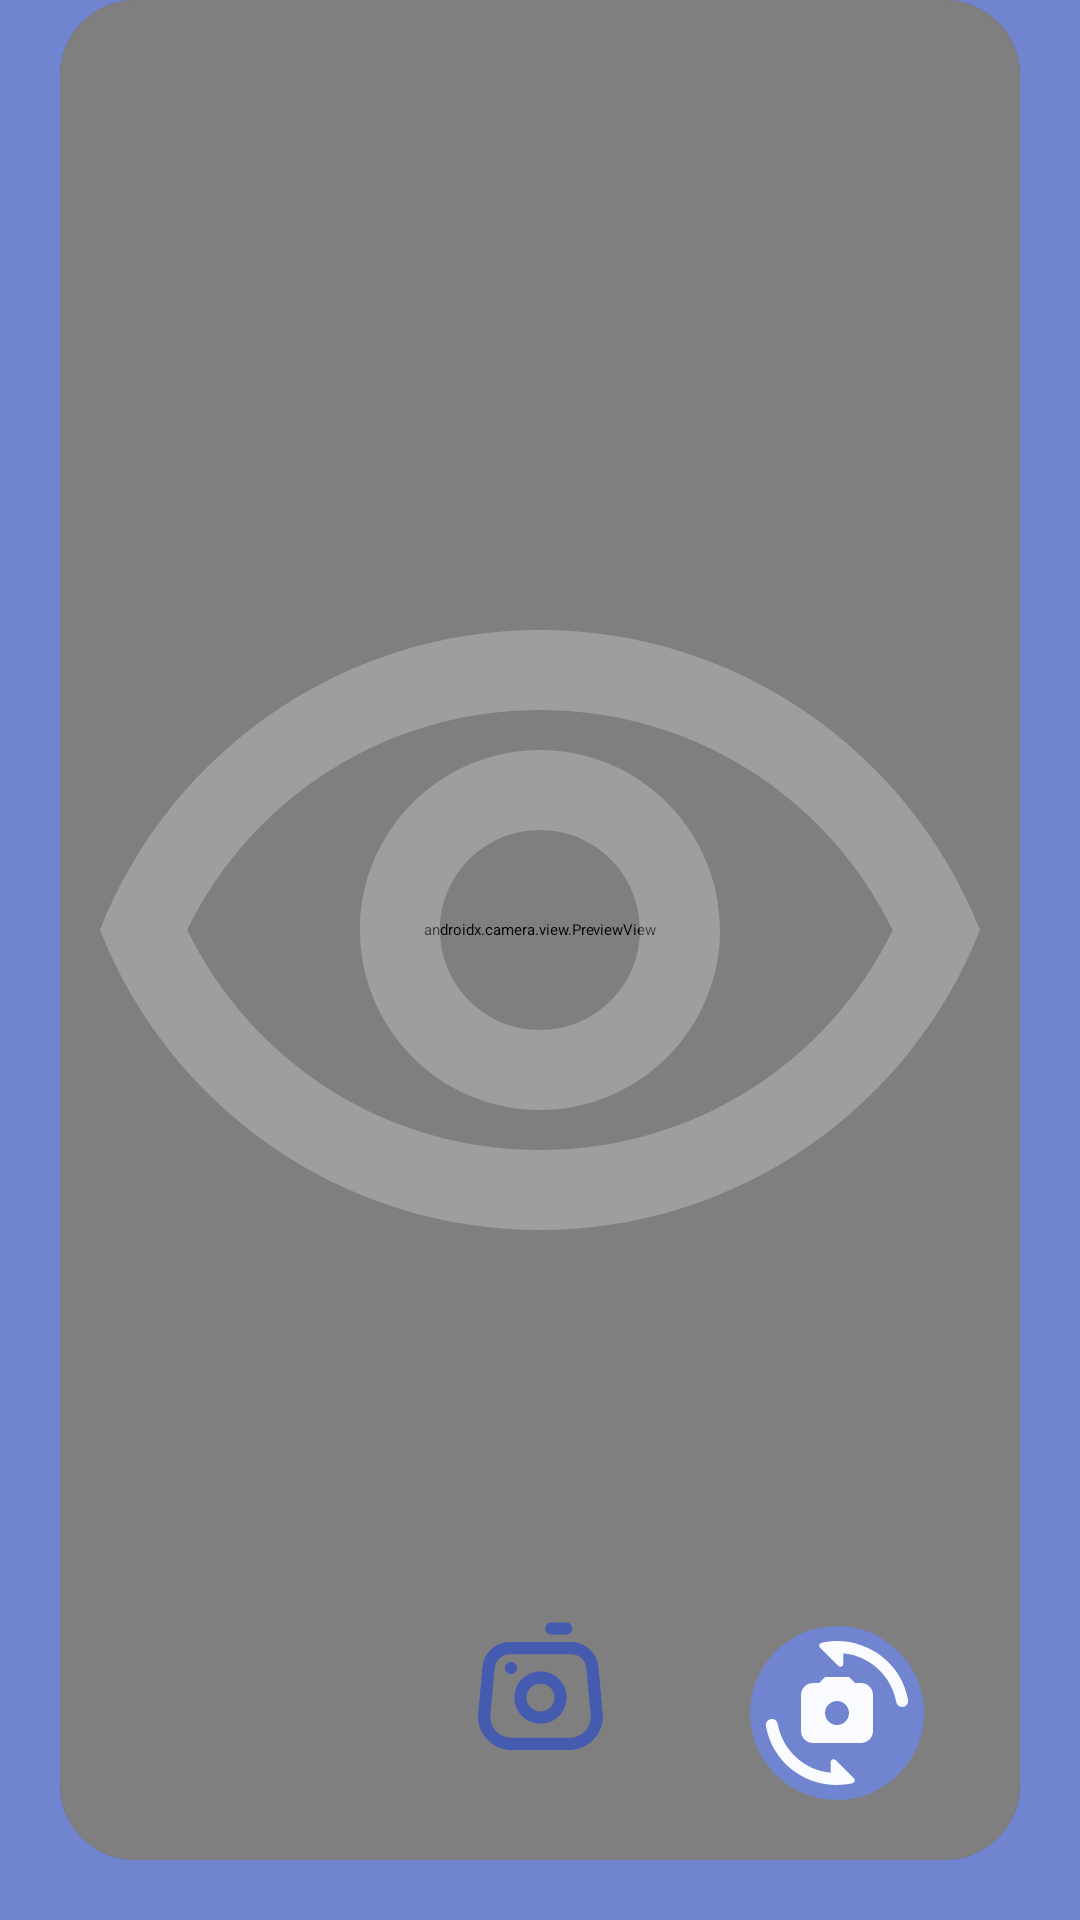

Screen size 1080 x 1920. Icon name, then its box in pixels as (x1, y1, x2, y2):
camera switch: (750, 1626, 924, 1800)
